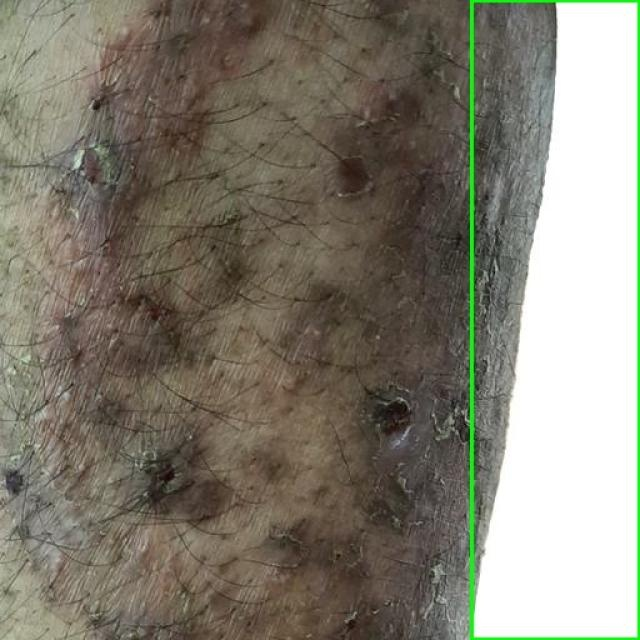Tinea Corporis: (471, 0, 639, 639)
